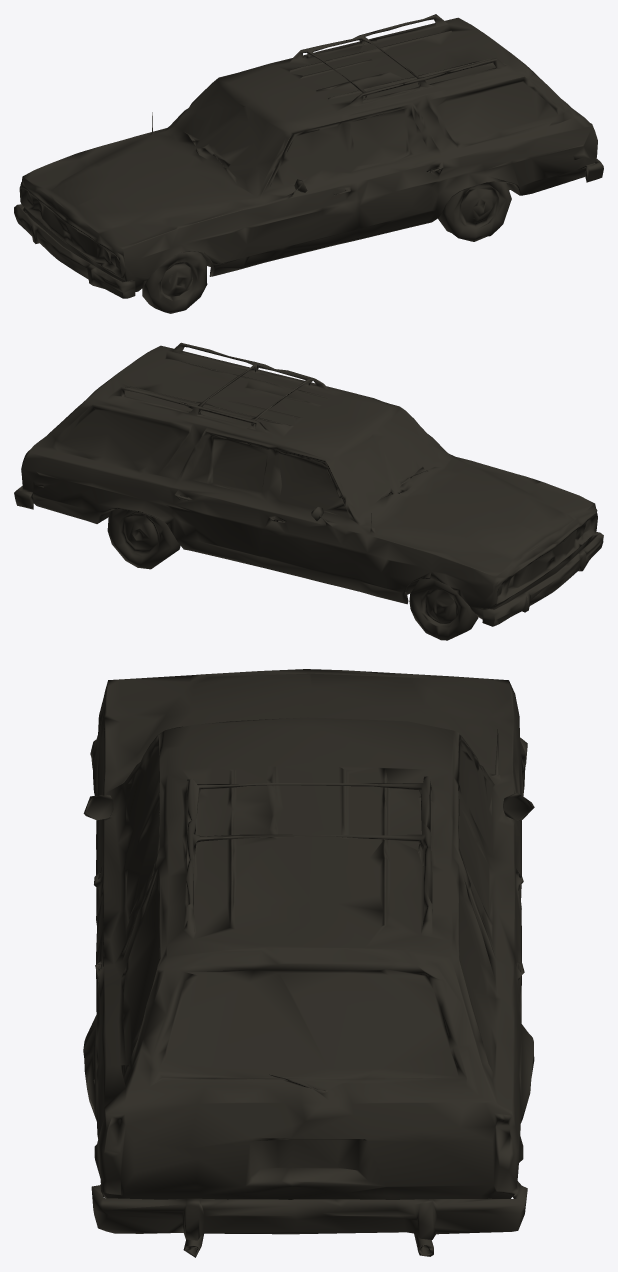
File: car_hatchback_light_q0.glb
The picture shows the model from 3 angles, top to bottom: view 1: azimuth 30°, elevation 25°; view 2: azimuth 150°, elevation 25°; view 3: azimuth 270°, elevation 25°; orthographic projection. The views are drawn at different scales.
Size of the model in its own units: 4.62 by 1.44 by 1.82.
1 material, 1 textured.
